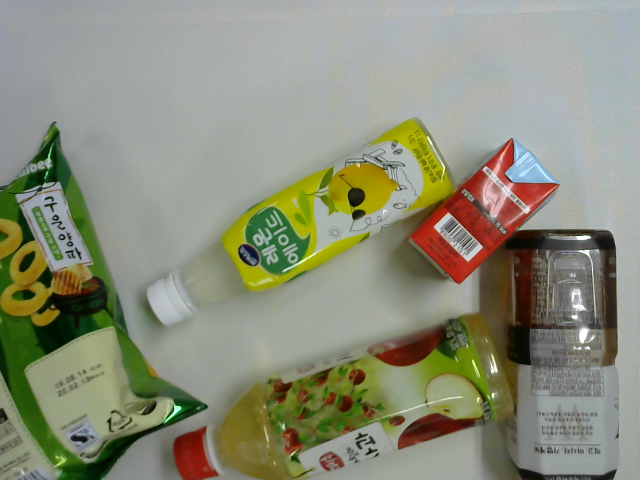Grilled_Onions: (1, 117, 212, 480)
Morning_Apple_500ml: (173, 310, 519, 480)
Picnic_Apple: (406, 134, 562, 286)
Post-meal_recipe_W_tea_500ml: (507, 226, 618, 480)
Sunkist_Lemonaid_Pet: (142, 115, 458, 331)
